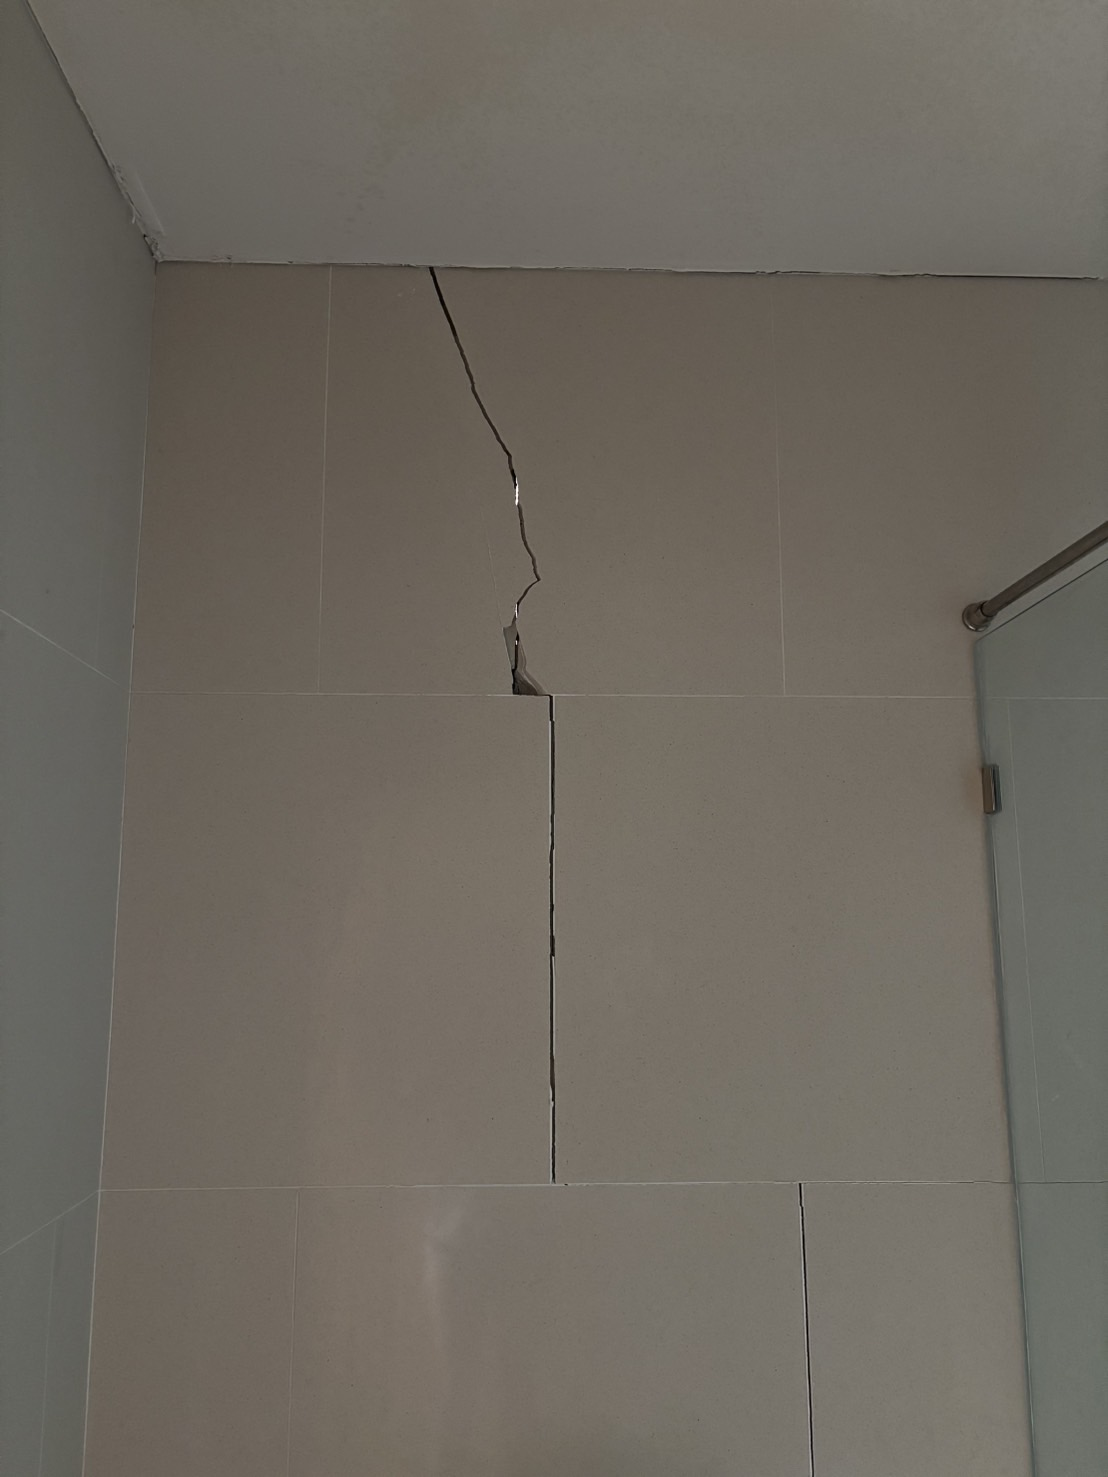Medium: (369, 276, 694, 1191)
